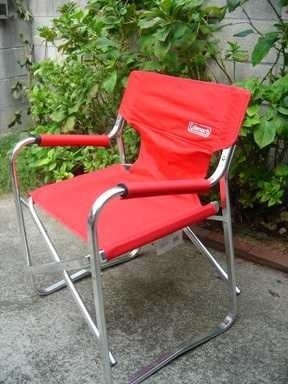obstacle: (12, 71, 249, 383)
